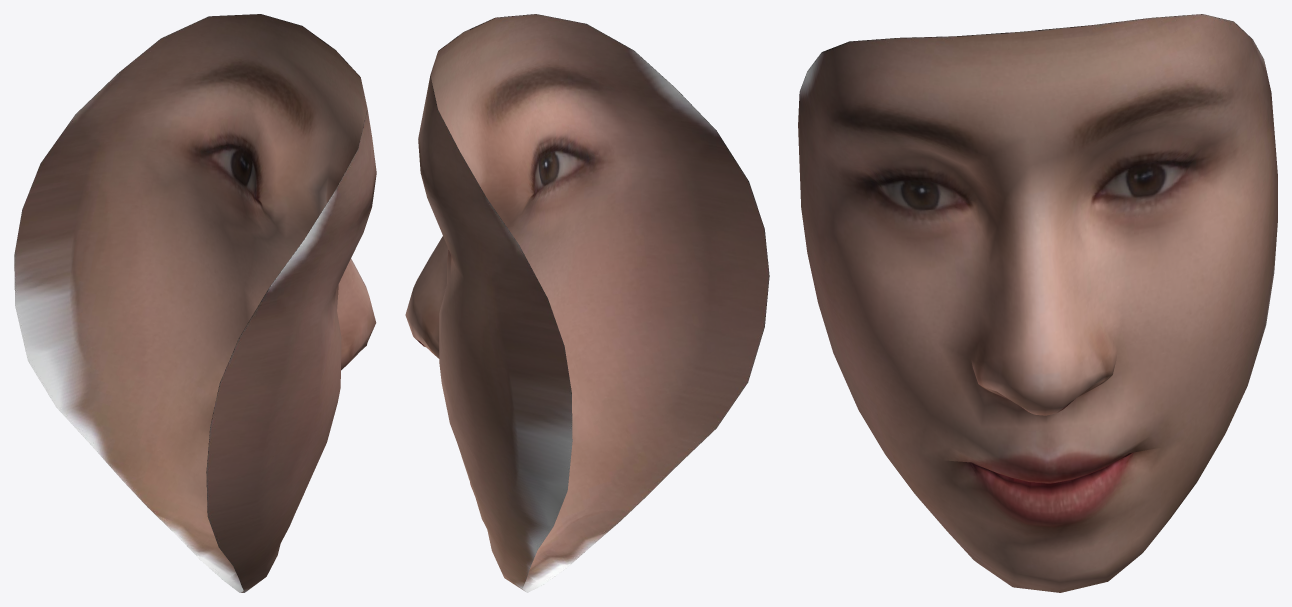
File: kakaostory_fashion.glb
The picture shows the model from 3 angles, left to right: view 1: azimuth 30°, elevation 25°; view 2: azimuth 150°, elevation 25°; view 3: azimuth 270°, elevation 25°; orthographic projection. The views are drawn at different scales.
Parts seen in each view (by area): view 1: kakaostory_fashion; view 2: kakaostory_fashion; view 3: kakaostory_fashion.
Part boxes in pixels (<box>): kakaostory_fashion: <box>14,14,376,592</box>; kakaostory_fashion: <box>405,14,769,592</box>; kakaostory_fashion: <box>798,14,1277,592</box>.
Size of the model in its own units: 0.4365 by 0.844 by 0.5926.
1 material, 1 textured.
